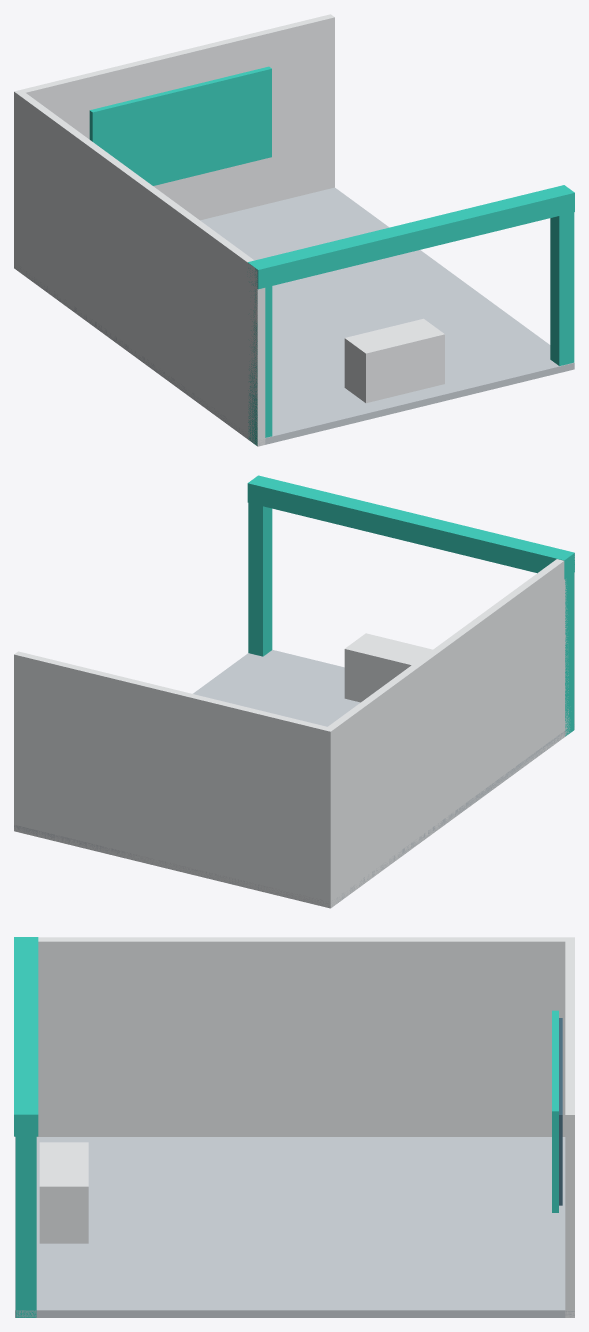
3 renders of one model, top to bottom at view 1: azimuth 30°, elevation 25°; view 2: azimuth 150°, elevation 25°; view 3: azimuth 270°, elevation 25°, orthographic. The views are drawn at different scales.
Visible parts, largest first — view 1: Exhibition Booth Concept; view 2: Exhibition Booth Concept; view 3: Exhibition Booth Concept.
Boxes of the visible parts, x1=… form: Exhibition Booth Concept: x1=14, y1=14, x2=574, y2=446; Exhibition Booth Concept: x1=14, y1=475, x2=574, y2=908; Exhibition Booth Concept: x1=14, y1=937, x2=574, y2=1317.
Size of the model in its own units: 6 by 3.2 by 8.01.
